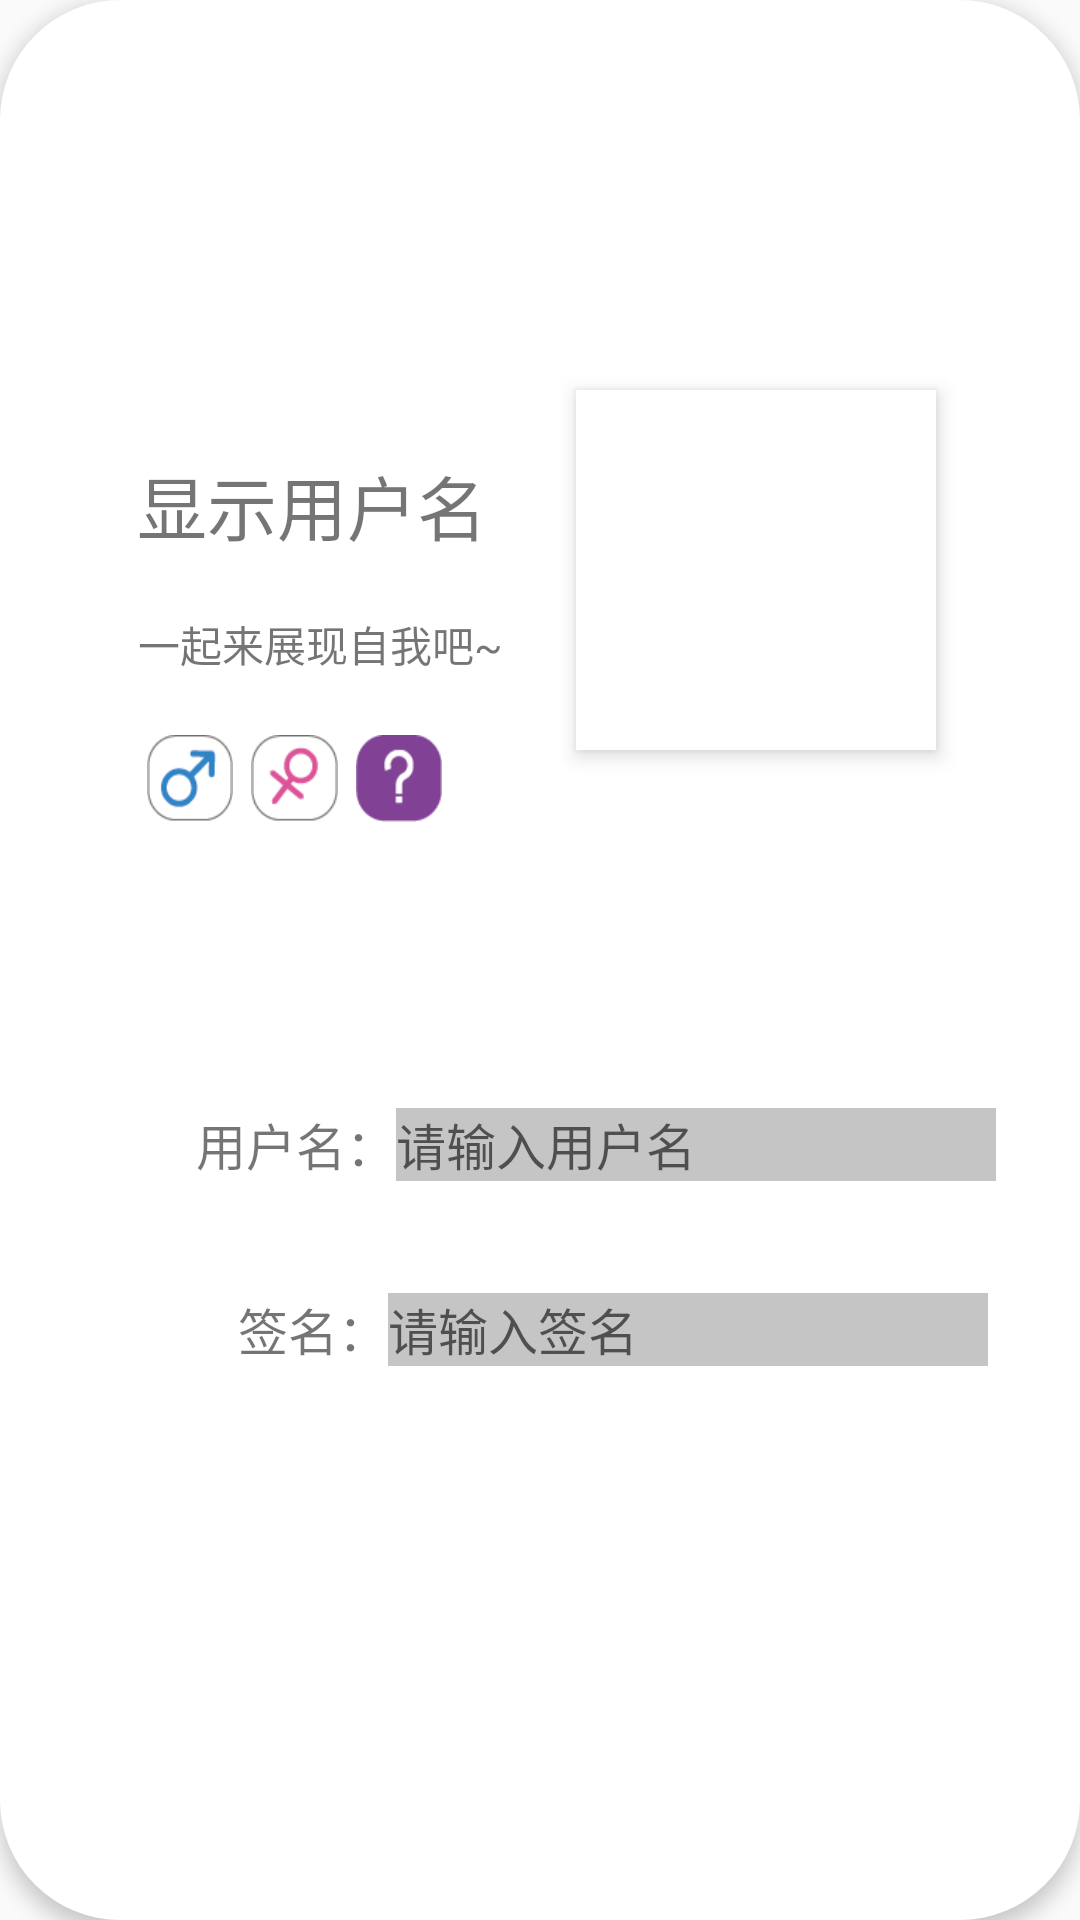

Point at icon controls on the screen. Image size 1080*1920, points as point (x, y).
isfemale no: point (294, 778)
ismale no: point (190, 778)
